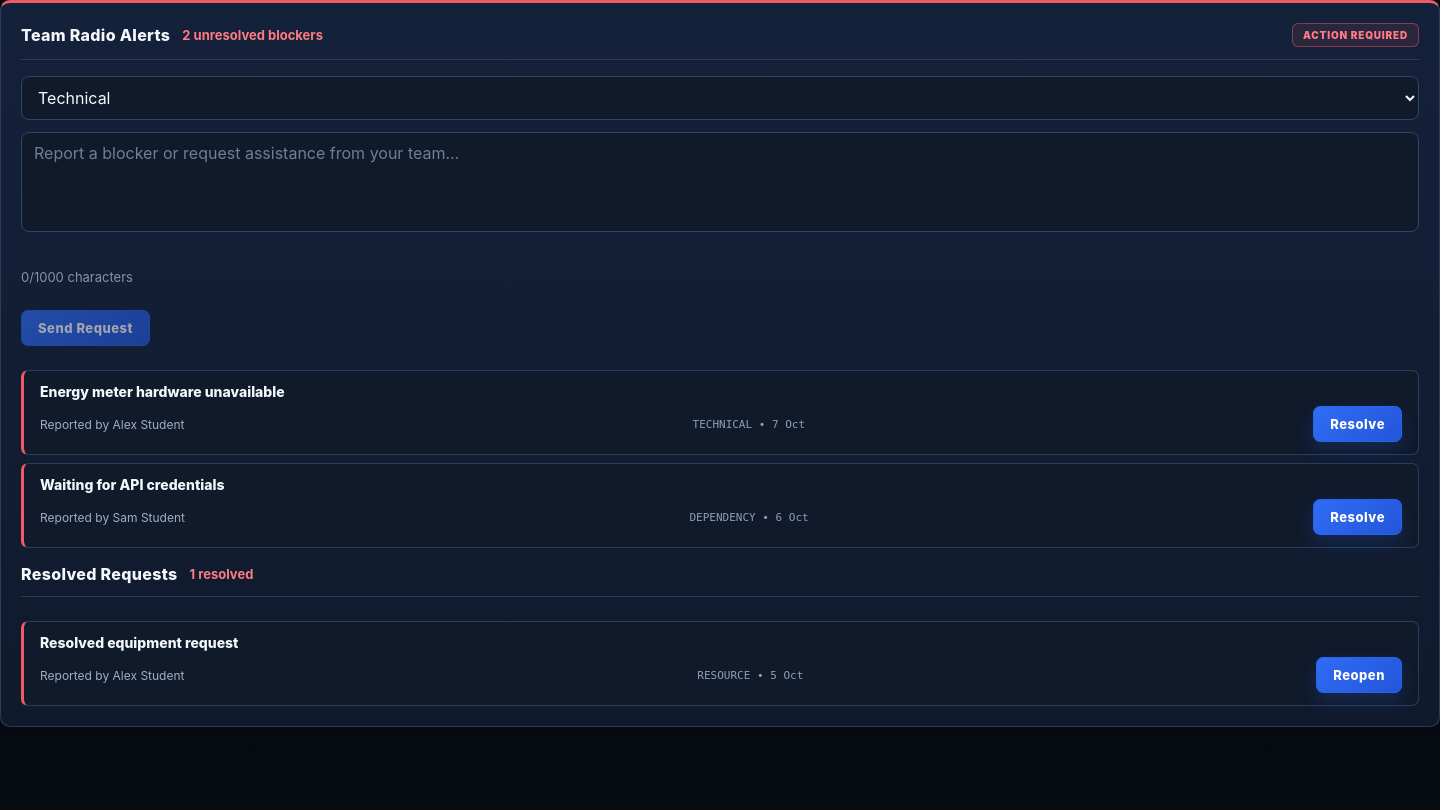
TeamRadioAlert Integration Tests › resolves an open assistance request and sends the resolve PATCH request
This screenshot has width=1440, height=810.
Check: the text "Energy meter hardware unavailable" is shown, box [40,383,285,400]
Click the button "Resolve" in the row of "• 7 Oct": (1358, 424) [1313,406,1402,442]
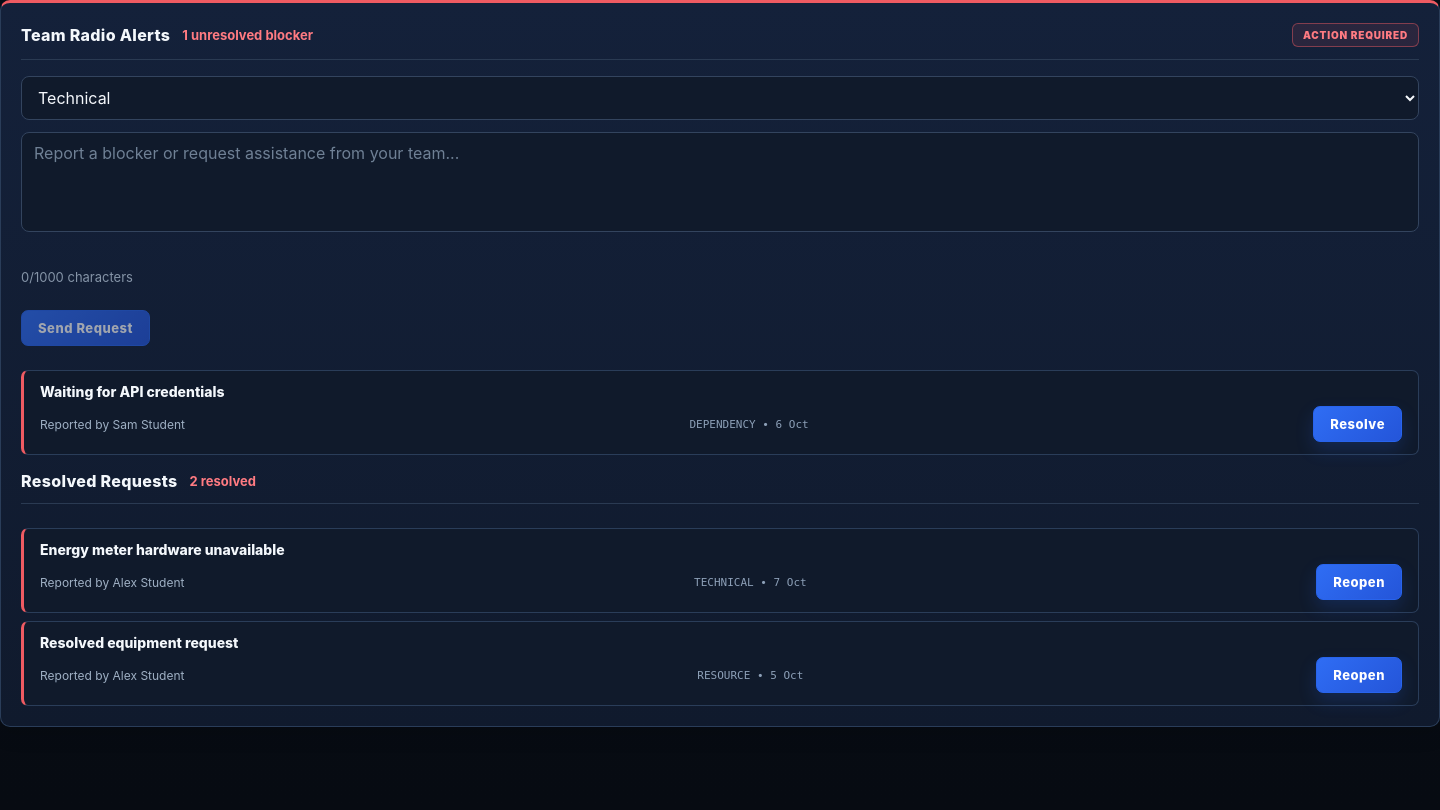
Check: the text "Energy meter hardware unavailable" is shown, box [40,541,285,558]
Check: the text "1 unresolved blocker" is shown, box [182,27,313,43]
Check: the text "2 resolved" is shown, box [190,473,256,489]
